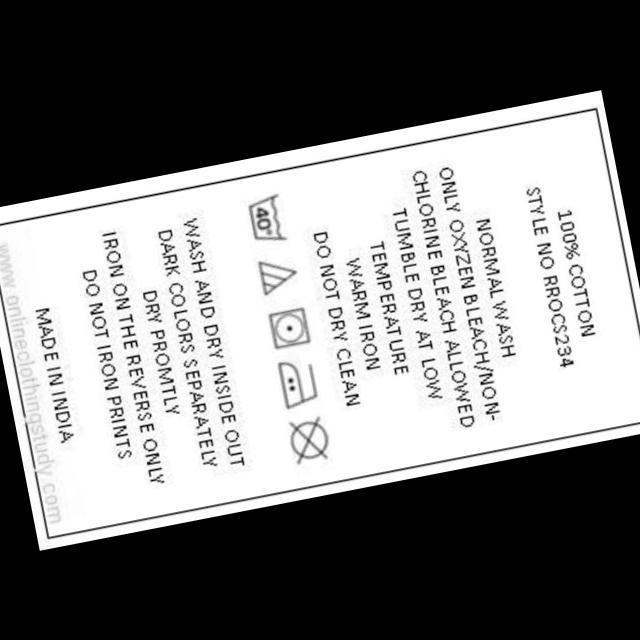40C: (240, 188, 290, 249)
DN_dry_clean: (284, 413, 334, 468)
iron_medium: (272, 351, 322, 414)
non_chlorine_bleach: (252, 250, 303, 298)
tumble_dry_low: (264, 303, 314, 351)
